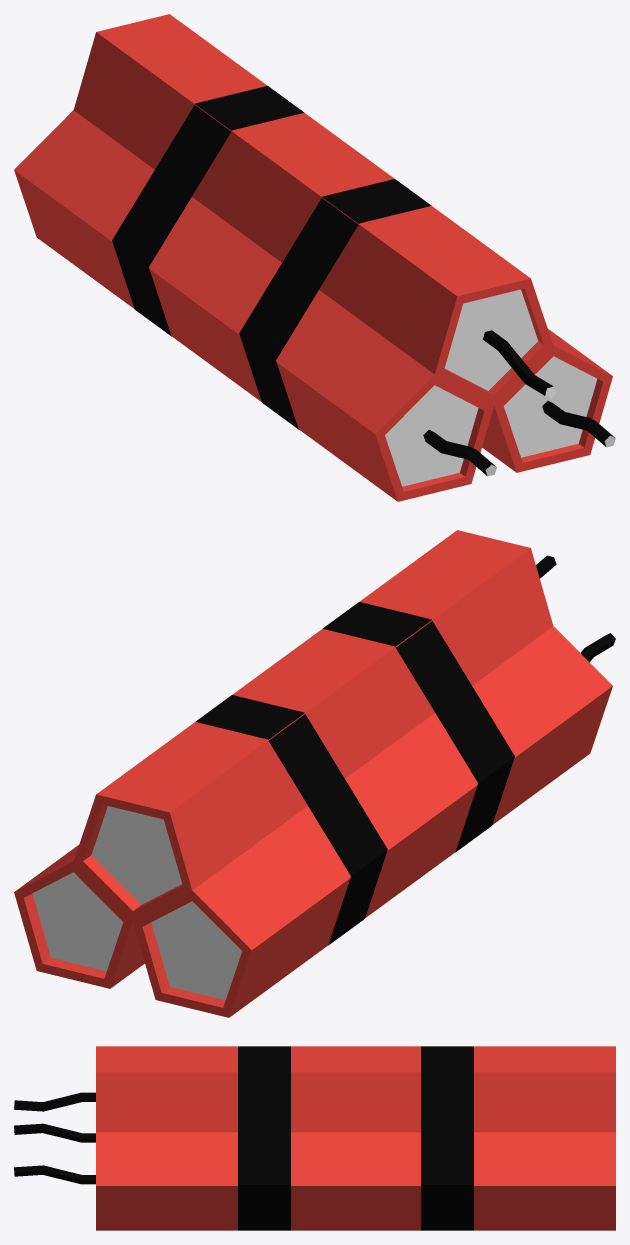
File: Dynamite.fbx
The picture shows the model from 3 angles, top to bottom: view 1: azimuth 30°, elevation 25°; view 2: azimuth 150°, elevation 25°; view 3: azimuth 270°, elevation 25°; orthographic projection. The views are drawn at different scales.
Visible parts, largest first — view 1: Dynamite; view 2: Dynamite; view 3: Dynamite.
Boxes of the visible parts, x1=… form: Dynamite: x1=14, y1=14, x2=615, y2=501; Dynamite: x1=14, y1=530, x2=615, y2=1017; Dynamite: x1=14, y1=1046, x2=615, y2=1230.
Size of the model in its own units: 0.7647 by 0.5853 by 2.31.
Materials: 1 (1 with a texture image).
